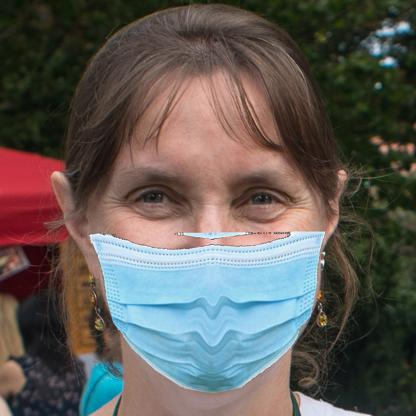mask: (87, 231, 326, 393)
